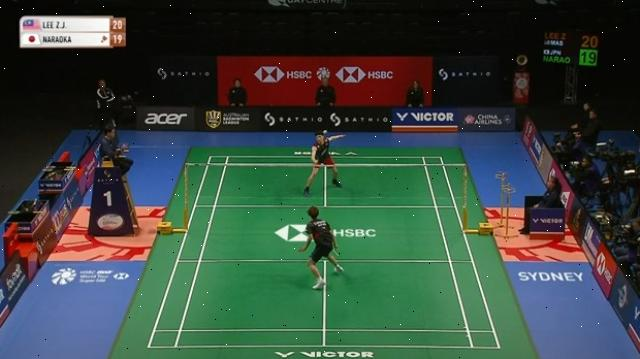Shuttlecock: (321, 129, 331, 137)
